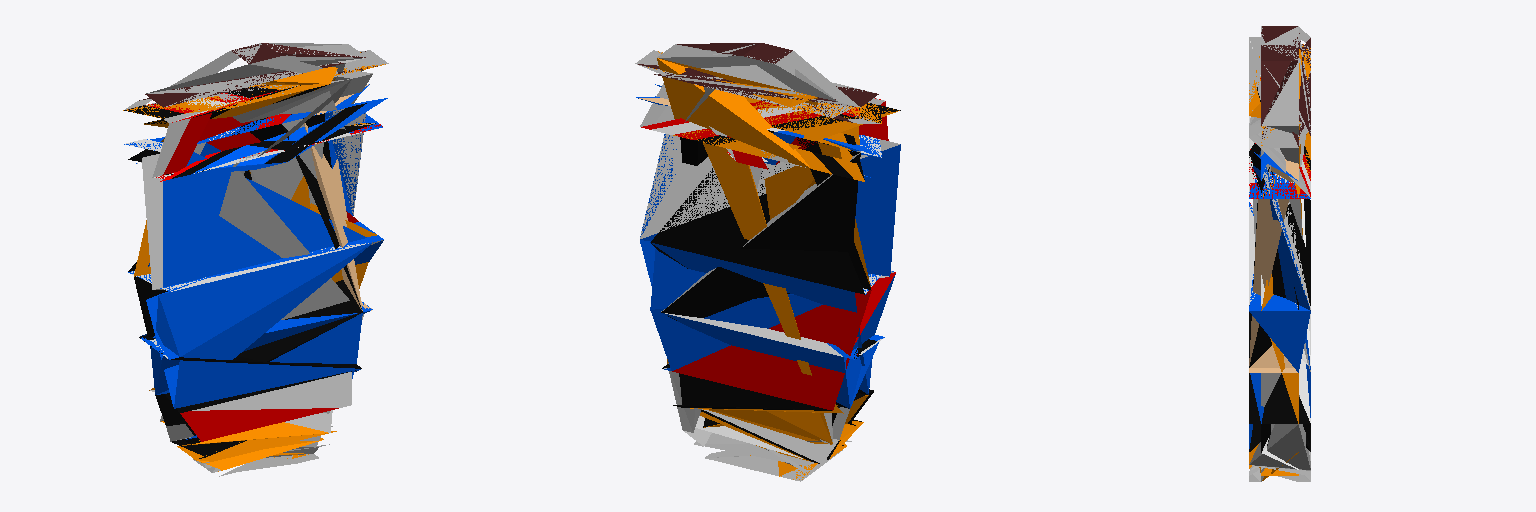
3 renders of one model, left to right at view 1: azimuth 30°, elevation 25°; view 2: azimuth 150°, elevation 25°; view 3: azimuth 270°, elevation 25°, orthographic.
Size of the model in its own units: 46 by 72 by 10.
Materials: 1 (1 with a texture image).